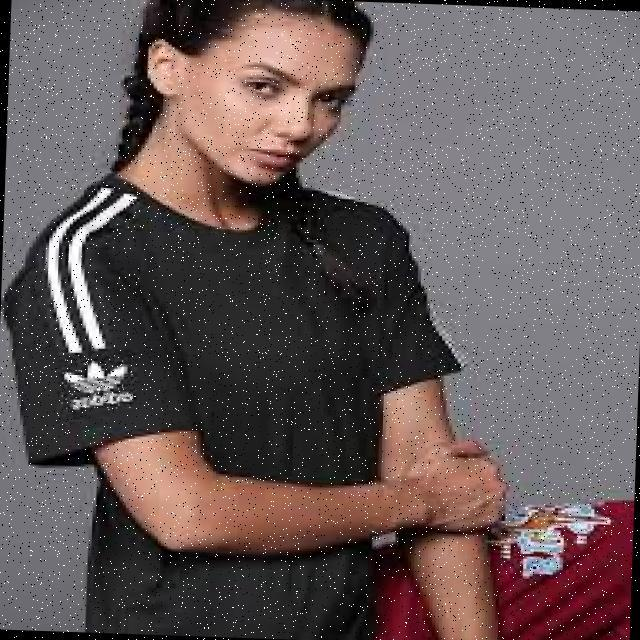Adidas: (61, 354, 132, 412)
